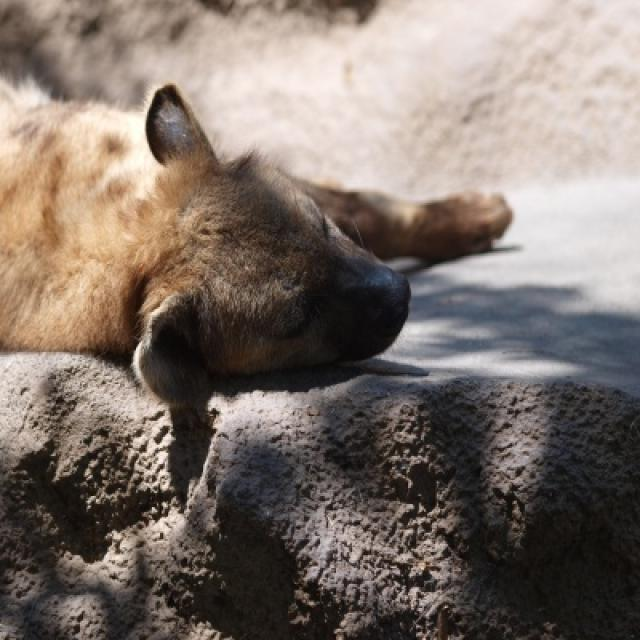hyena: (0, 83, 515, 509)
